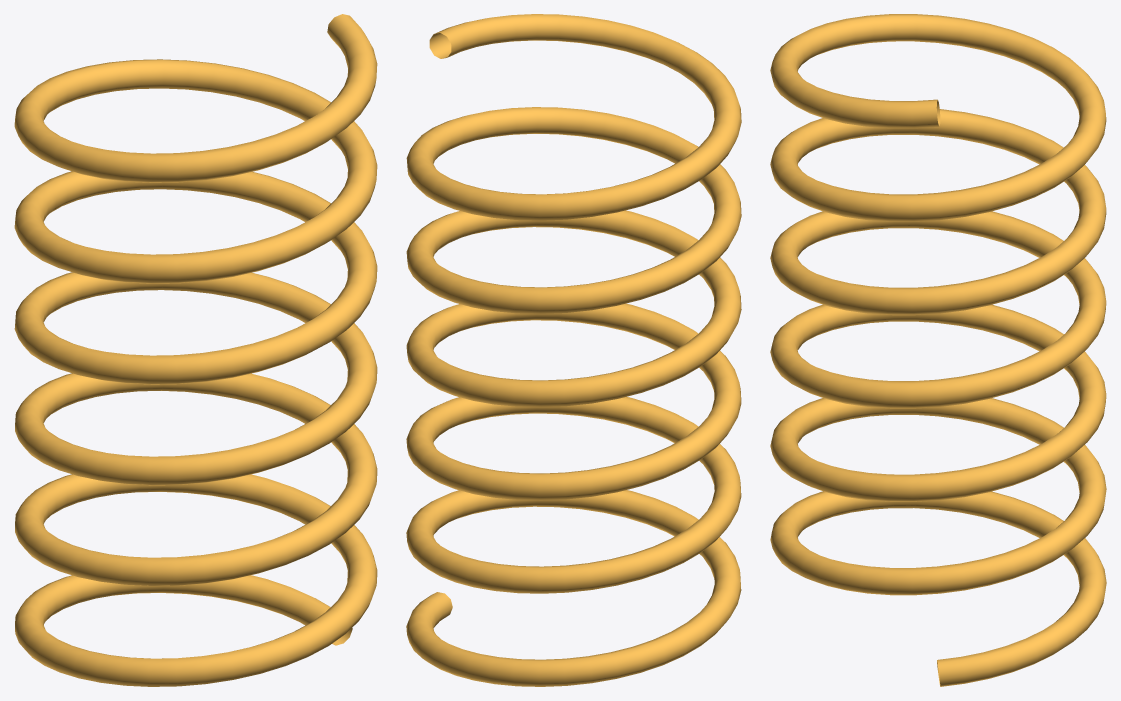
Rendered from helical-spring-quality.glb.
3 views of the same model, side by side, from view 1: azimuth 30°, elevation 25°; view 2: azimuth 150°, elevation 25°; view 3: azimuth 270°, elevation 25° (orthographic). The views are drawn at different scales.
Parts seen in each view (by area): view 1: Spring; view 2: Spring; view 3: Spring.
Part boxes in pixels (box(x1,y1,x2,y2)): Spring: box(14, 14, 377, 686); Spring: box(406, 14, 741, 686); Spring: box(770, 14, 1106, 686).
Size of the model in its own units: 0.9797 by 1.88 by 0.9795.
